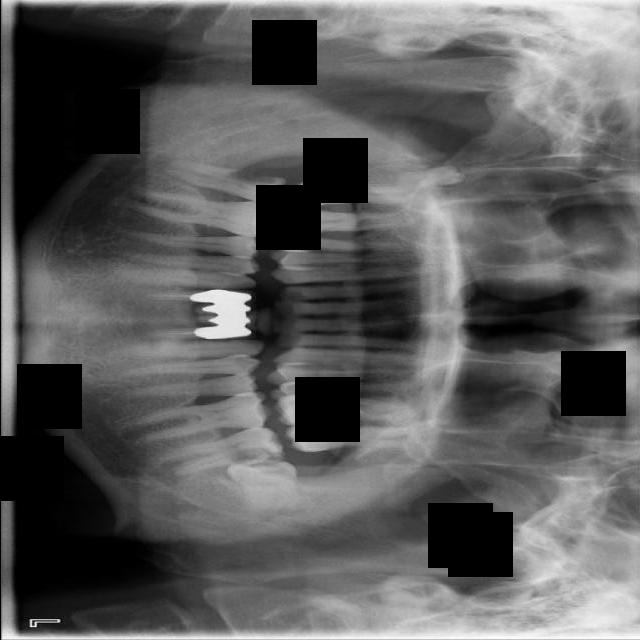3M ESPE Implant: (396, 164, 466, 190)
52: (188, 289, 256, 341), (225, 165, 277, 192), (228, 447, 286, 467)
73: (140, 290, 211, 302), (143, 327, 213, 339), (26, 602, 62, 618)
BioHorizons Implant: (281, 423, 441, 452)
Biomet 3i Implant: (223, 454, 303, 520)
Blue Sky Bio Implant: (151, 420, 288, 492)
Caries: (285, 176, 421, 208)
Implant: (158, 155, 288, 208)
